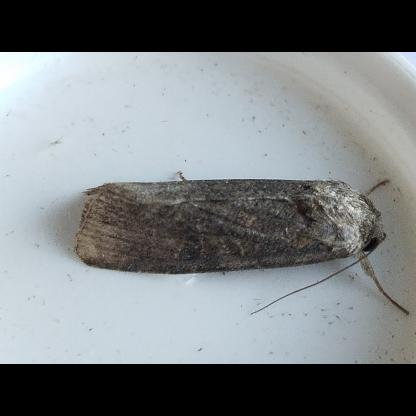Fall Armyworm Moth: (70, 168, 412, 320)
